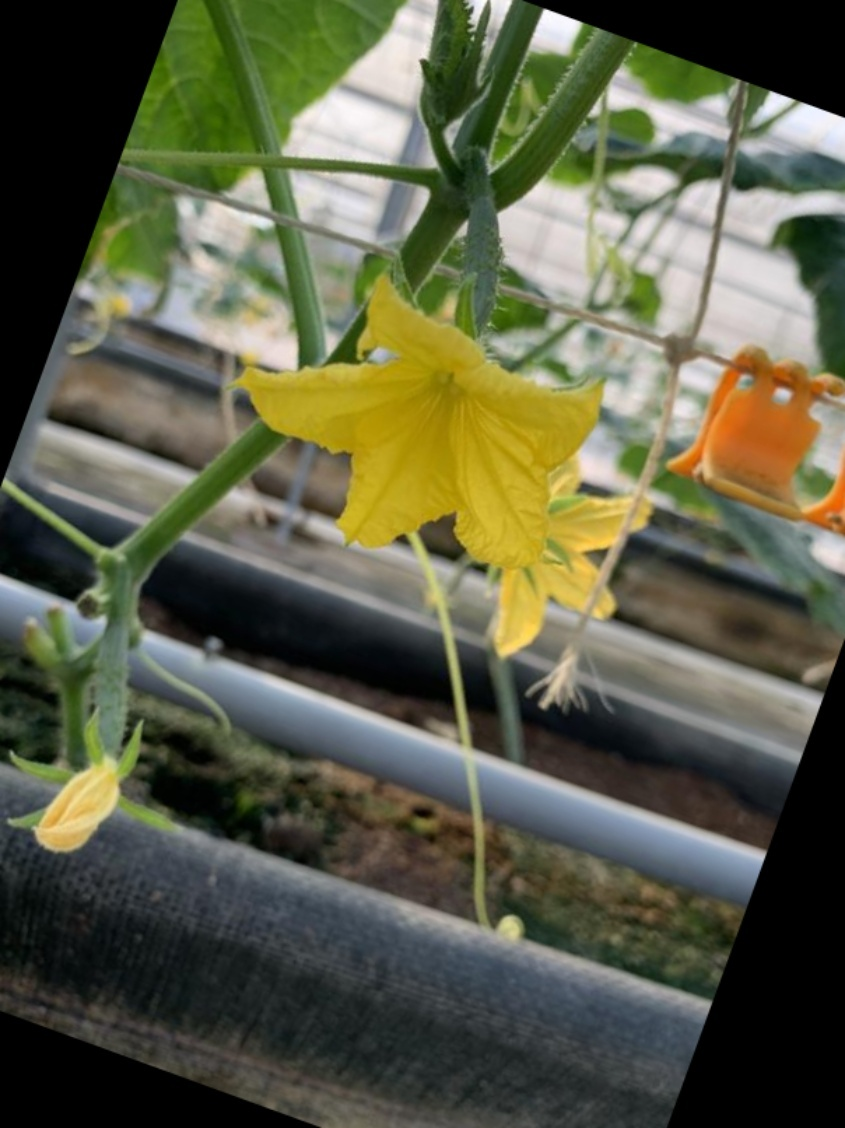flowering: (215, 171, 661, 568)
